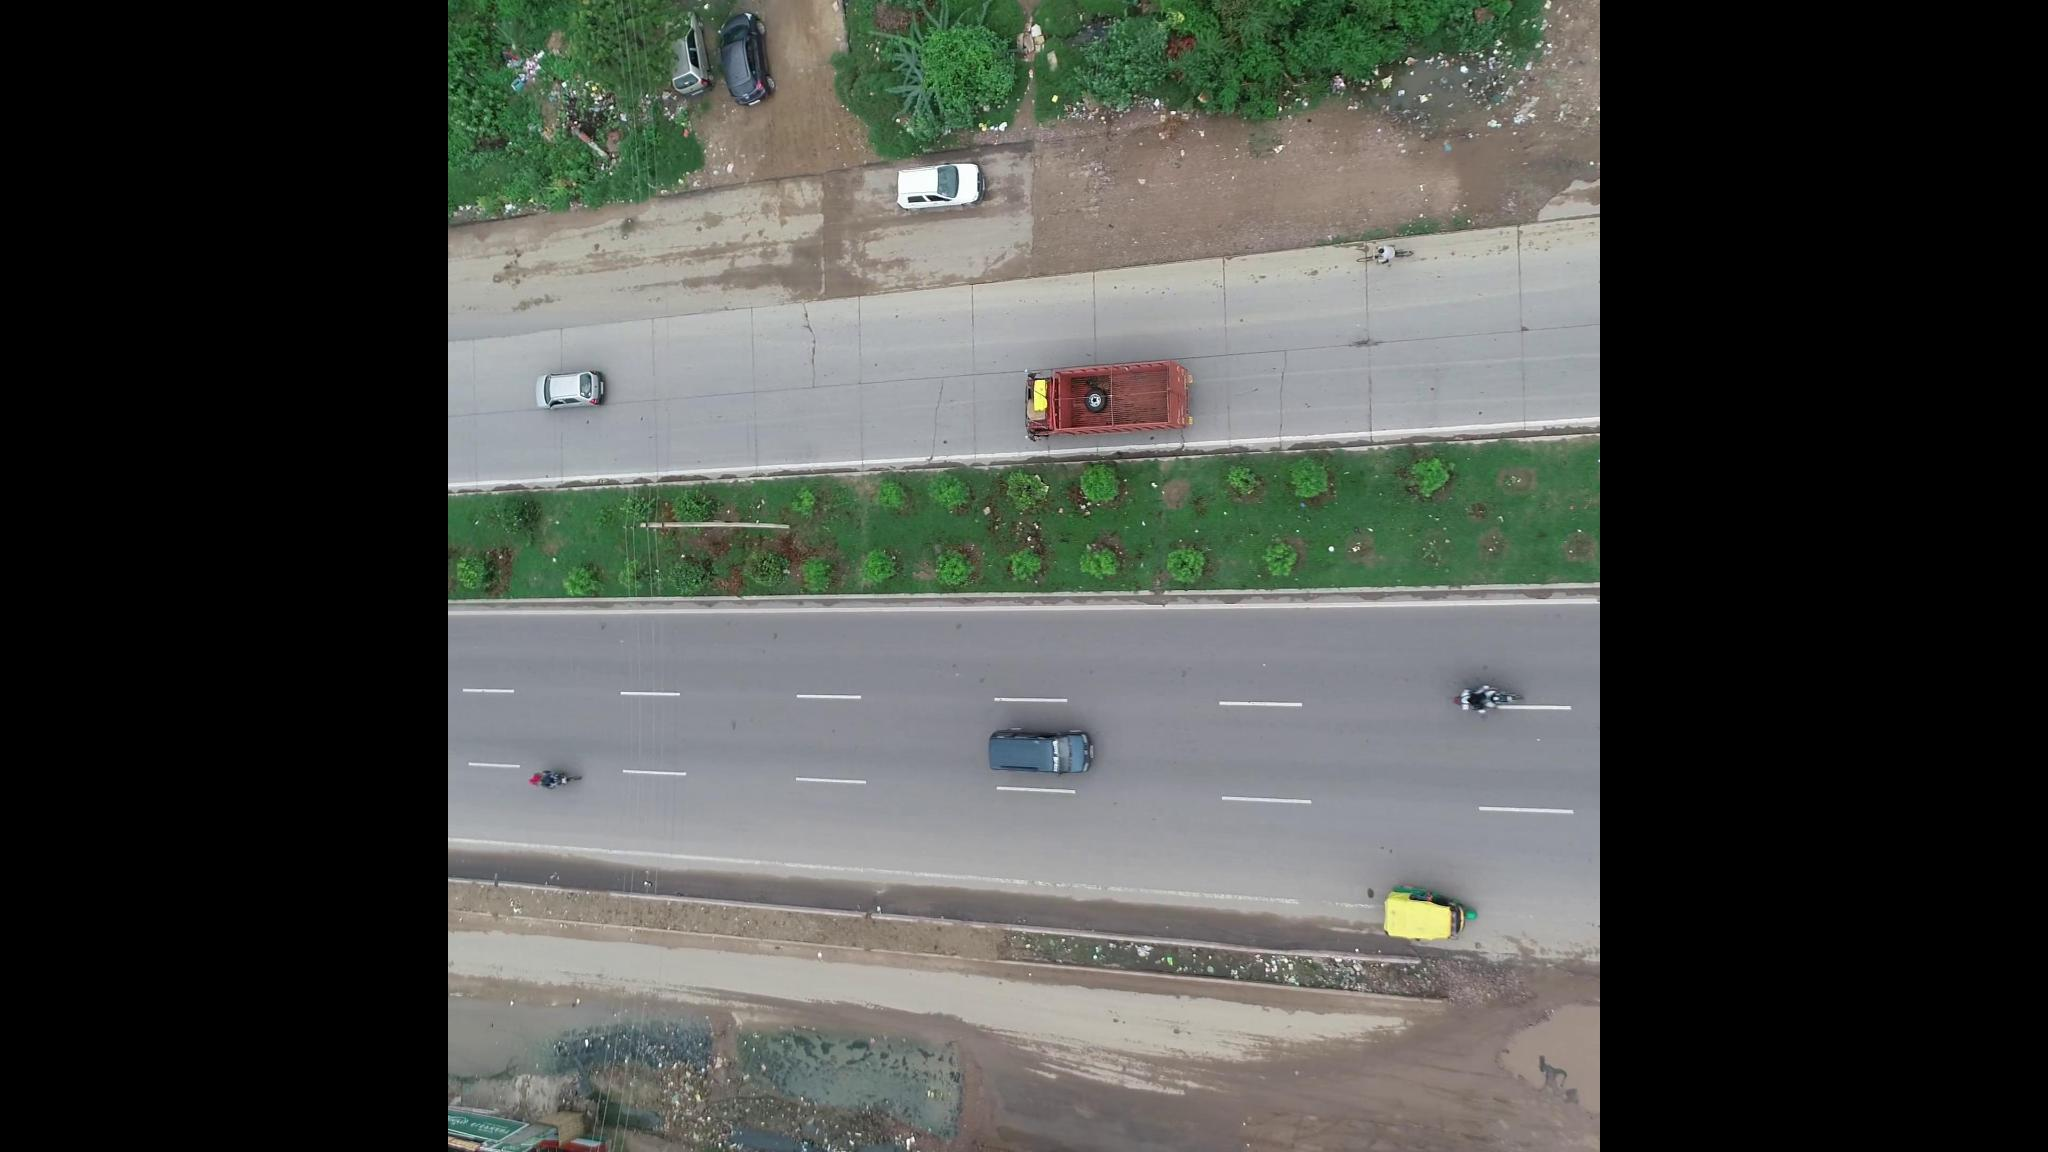Muddy_road: (1315, 1041, 1598, 1152)
